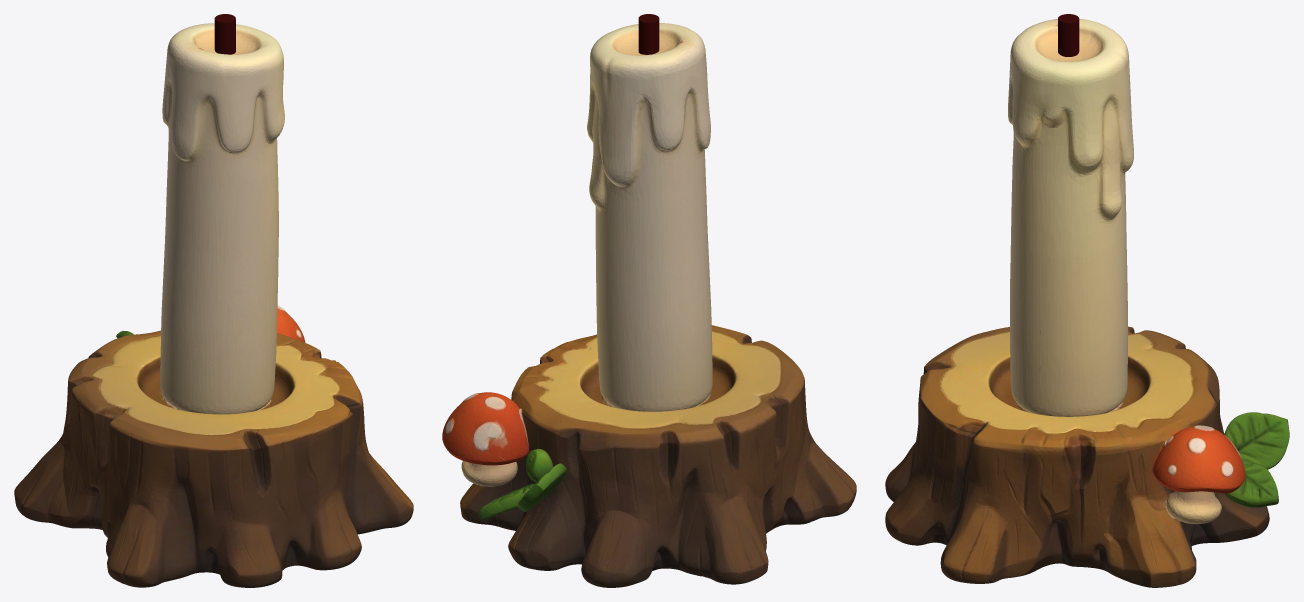
The model's file is candle_6.glb.
3 renders of one model, left to right at view 1: azimuth 30°, elevation 25°; view 2: azimuth 150°, elevation 25°; view 3: azimuth 270°, elevation 25°, orthographic. The views are drawn at different scales.
Visible parts, largest first — view 1: tripo_node_4dbe7b32-7967-4189-80c5-0546763e22fc, Cylinder.002; view 2: tripo_node_4dbe7b32-7967-4189-80c5-0546763e22fc, Cylinder.002; view 3: tripo_node_4dbe7b32-7967-4189-80c5-0546763e22fc, Cylinder.002.
Part boxes in pixels (<box>): tripo_node_4dbe7b32-7967-4189-80c5-0546763e22fc: <box>14,23,413,587</box>; Cylinder.002: <box>214,14,235,54</box>; tripo_node_4dbe7b32-7967-4189-80c5-0546763e22fc: <box>442,23,856,587</box>; Cylinder.002: <box>638,14,659,54</box>; tripo_node_4dbe7b32-7967-4189-80c5-0546763e22fc: <box>885,18,1289,587</box>; Cylinder.002: <box>1058,14,1079,56</box>.
Bounding box in the file's own units: 0.532 × 0.8372 × 0.6107.
2 materials, 1 textured.
